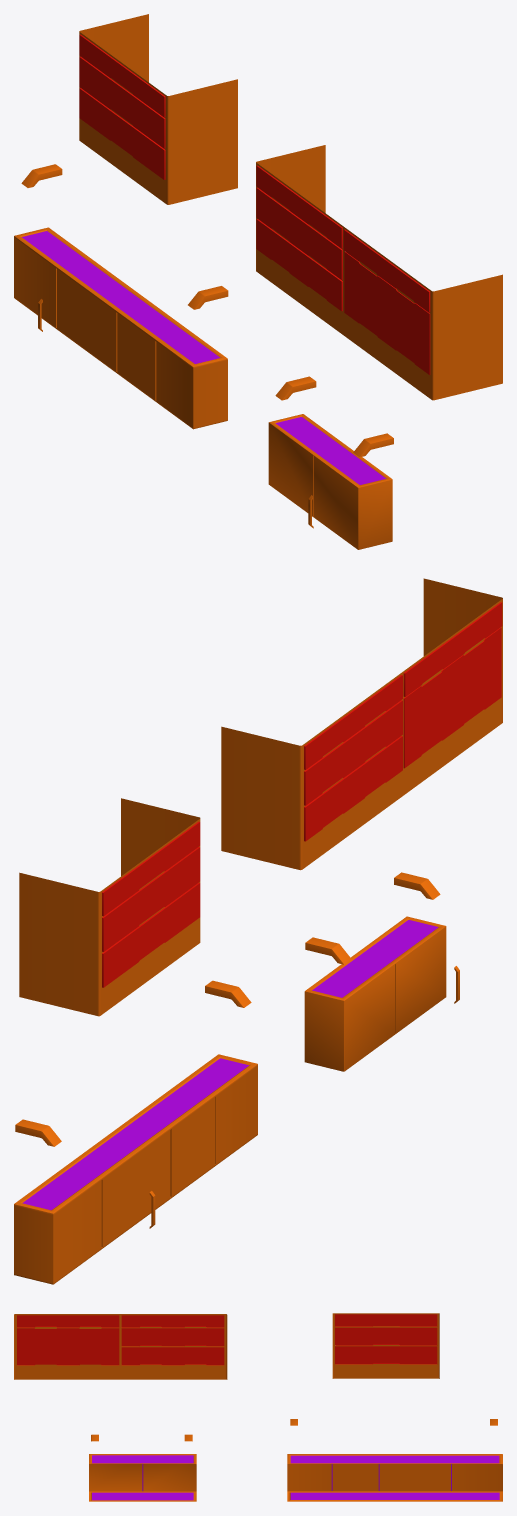
The model's file is Storage_1_High_EXP.FBX.
3 views of the same model, one above another, from view 1: azimuth 30°, elevation 25°; view 2: azimuth 150°, elevation 25°; view 3: azimuth 270°, elevation 25° (orthographic). The views are drawn at different scales.
Parts seen in each view (by area): view 1: Drawers_Large_High, Cabinet_Overhead_2.5_High_EXP, Drawers_Small_High, Cabinet_Overhead_1.25_High_EXP; view 2: Drawers_Large_High, Cabinet_Overhead_2.5_High_EXP, Drawers_Small_High, Cabinet_Overhead_1.25_High_EXP; view 3: Drawers_Large_High, Cabinet_Overhead_2.5_High_EXP, Drawers_Small_High, Cabinet_Overhead_1.25_High_EXP.
Boxes of the visible parts, <box> form: Drawers_Large_High: <box>256,145,502,400</box>; Cabinet_Overhead_2.5_High_EXP: <box>14,164,228,429</box>; Drawers_Small_High: <box>79,14,237,204</box>; Cabinet_Overhead_1.25_High_EXP: <box>268,376,393,549</box>; Drawers_Large_High: <box>221,578,502,870</box>; Cabinet_Overhead_2.5_High_EXP: <box>14,980,257,1284</box>; Drawers_Small_High: <box>19,798,200,1016</box>; Cabinet_Overhead_1.25_High_EXP: <box>304,872,459,1071</box>; Drawers_Large_High: <box>14,1314,227,1379</box>; Cabinet_Overhead_2.5_High_EXP: <box>287,1419,502,1501</box>; Drawers_Small_High: <box>332,1313,439,1378</box>; Cabinet_Overhead_1.25_High_EXP: <box>89,1434,196,1501</box>.
Size of the model in its own units: 36.1 by 91.55 by 223.
